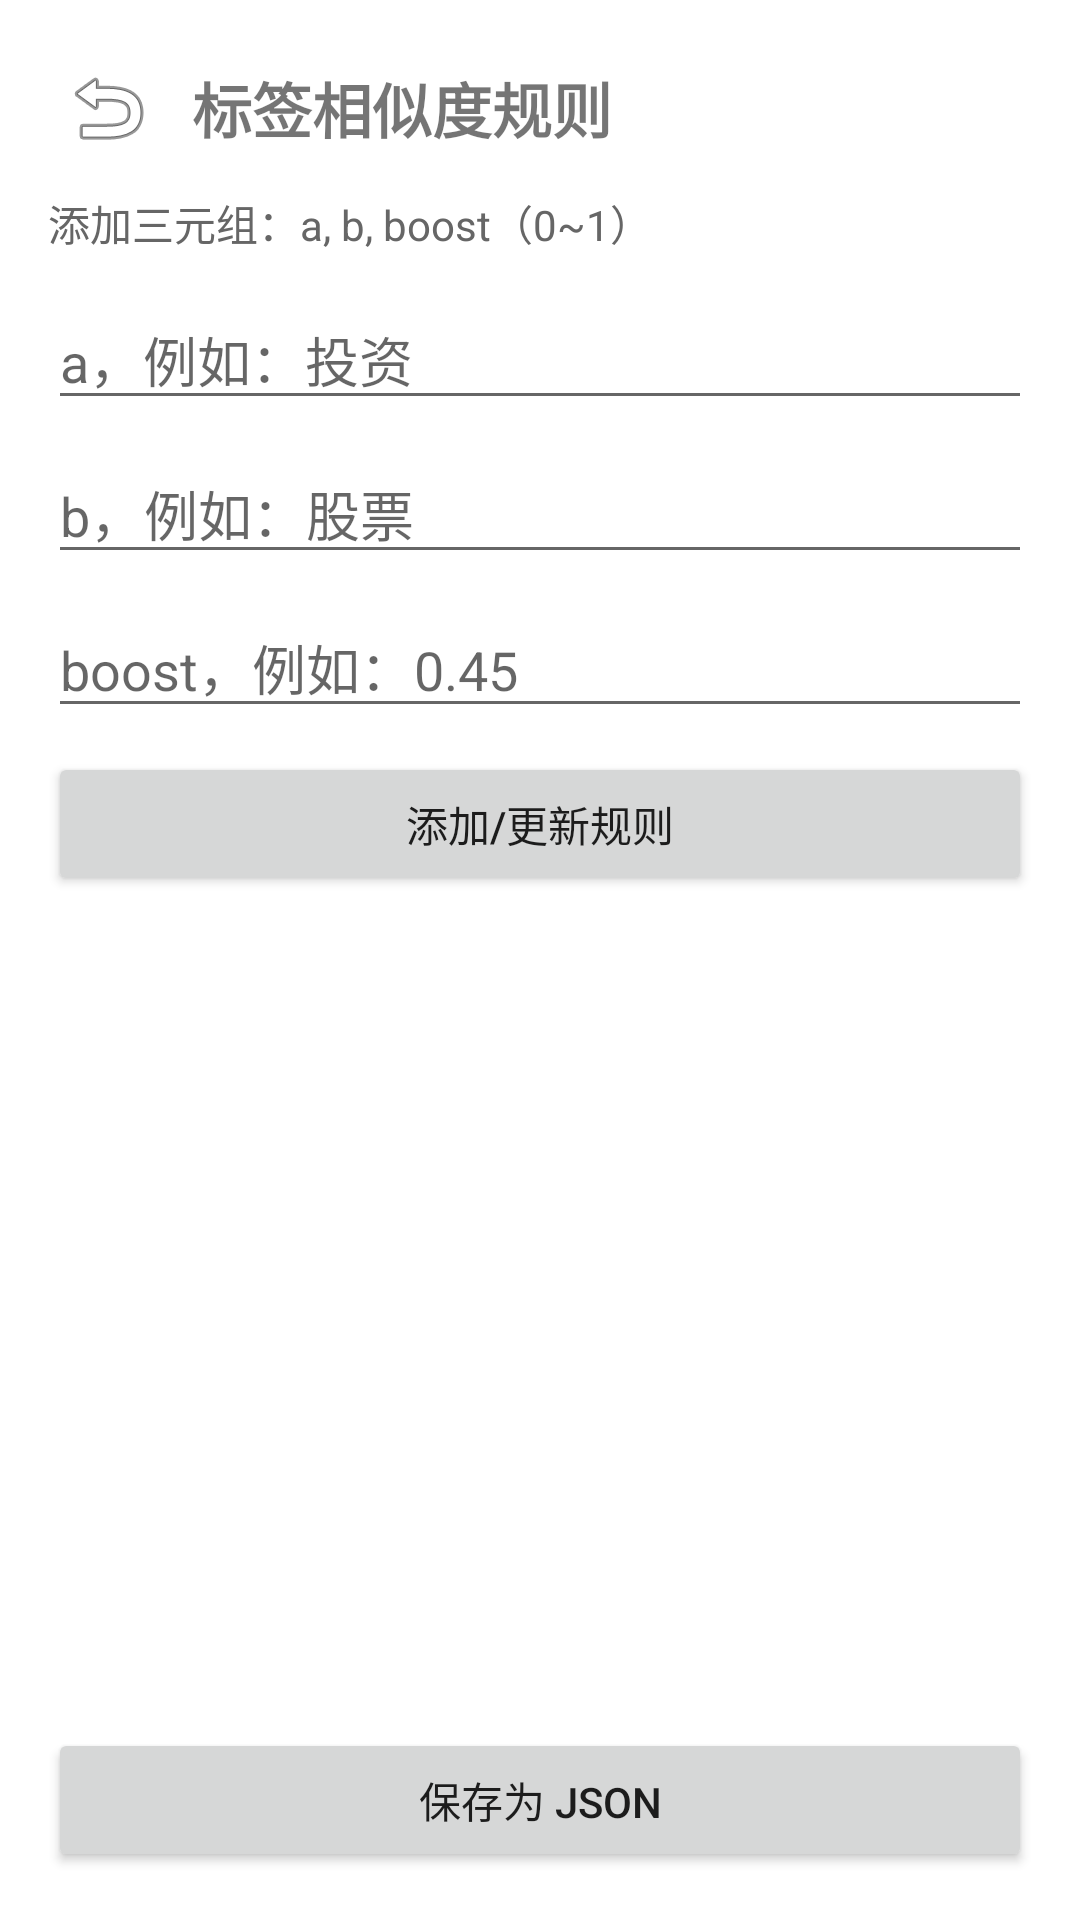

Icons on this 1080 × 1920 Android screen, each with the point to tap as point (x, y):
返回: point (109, 108)
